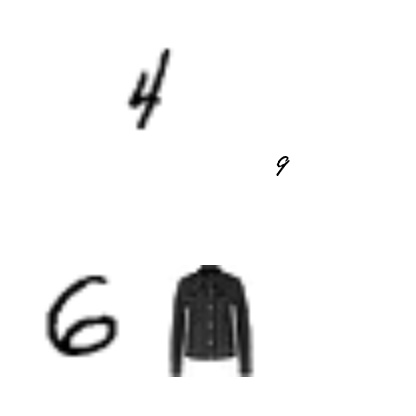4: (93, 33, 205, 145)
6: (22, 264, 134, 376)
8: (119, 38, 133, 52)
9: (268, 150, 296, 178)
Coat: (153, 265, 265, 377)
